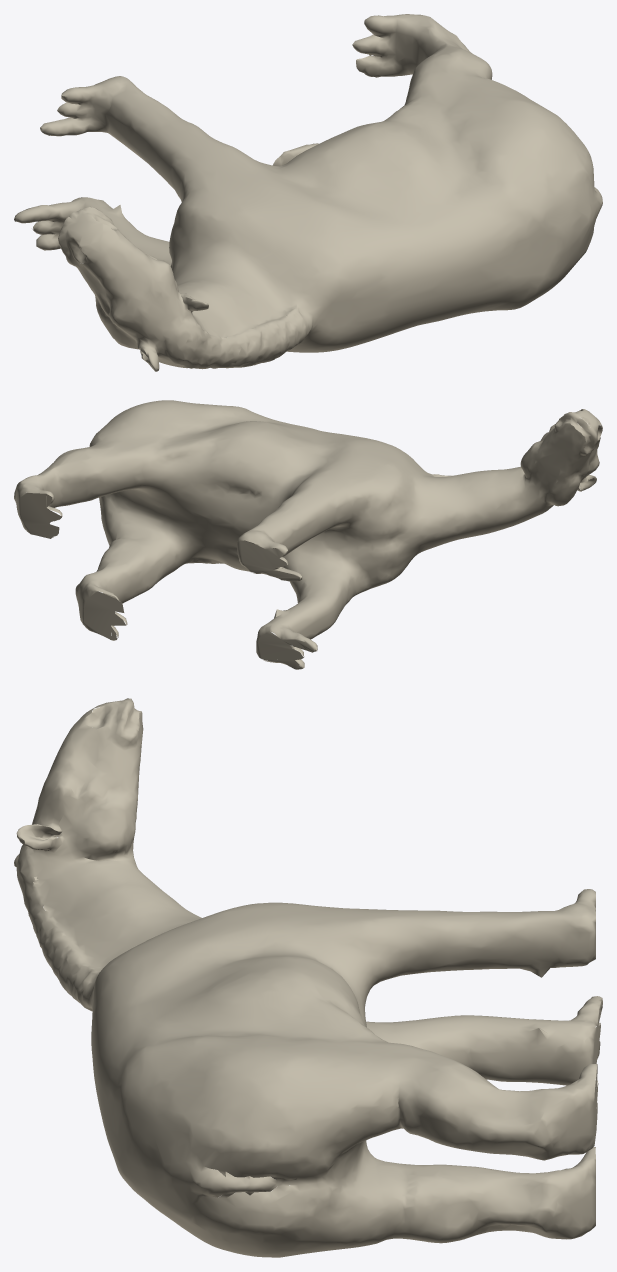
The model's file is moropus.glb.
3 renders of one model, top to bottom at view 1: azimuth 30°, elevation 25°; view 2: azimuth 150°, elevation 25°; view 3: azimuth 270°, elevation 25°, orthographic. The views are drawn at different scales.
Bounding box in the file's own units: 10 × 4.09 × 7.56.
